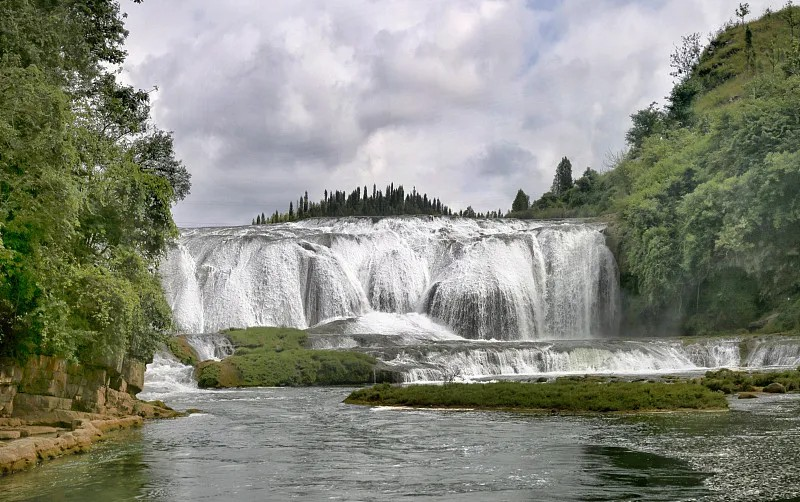Huangguoshu: (159, 215, 623, 339)
